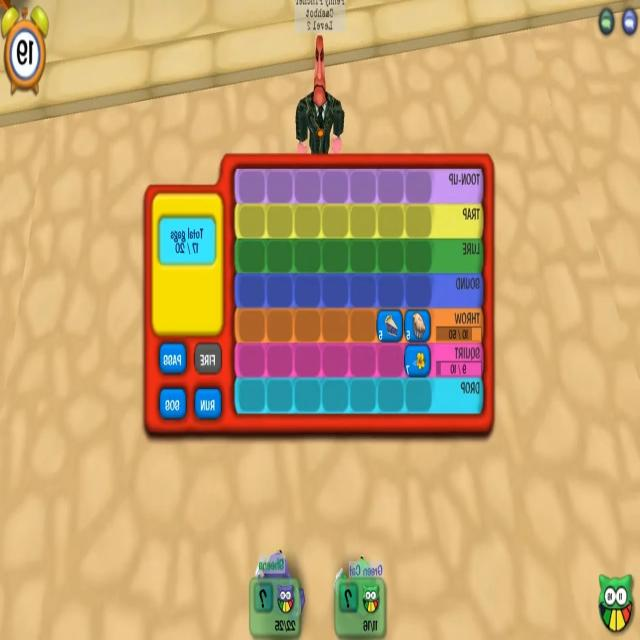pennypincher: (295, 0, 344, 155)
